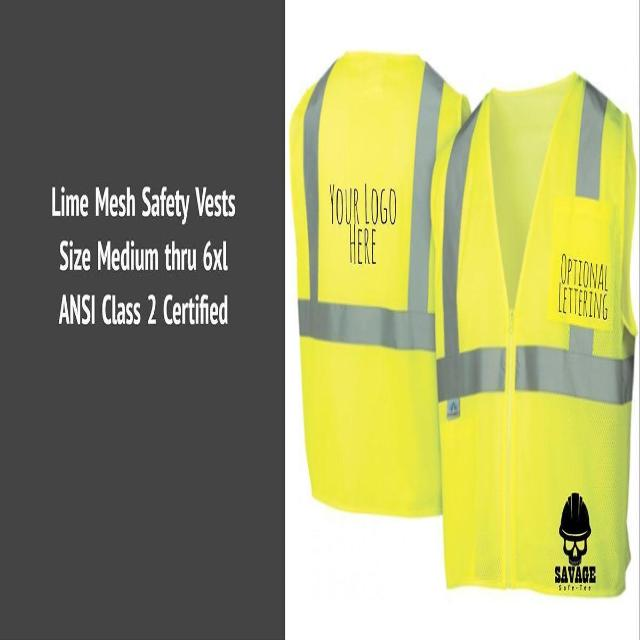Vest: (428, 75, 636, 602), (289, 52, 475, 522)
